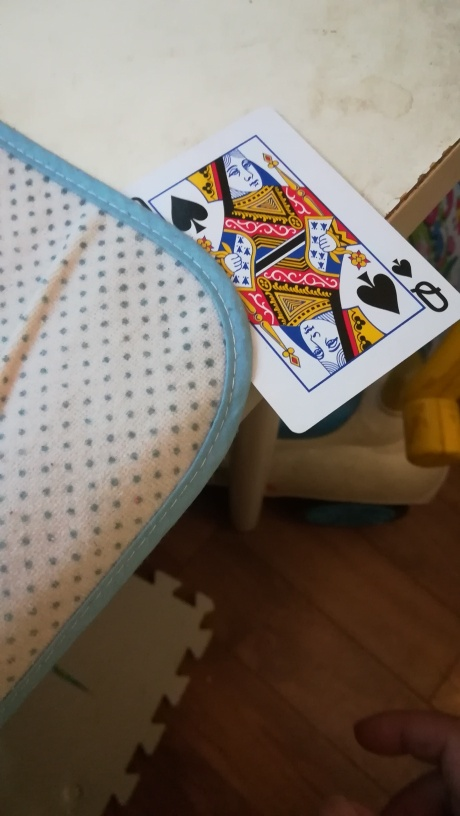ht q: (118, 96, 460, 438)
